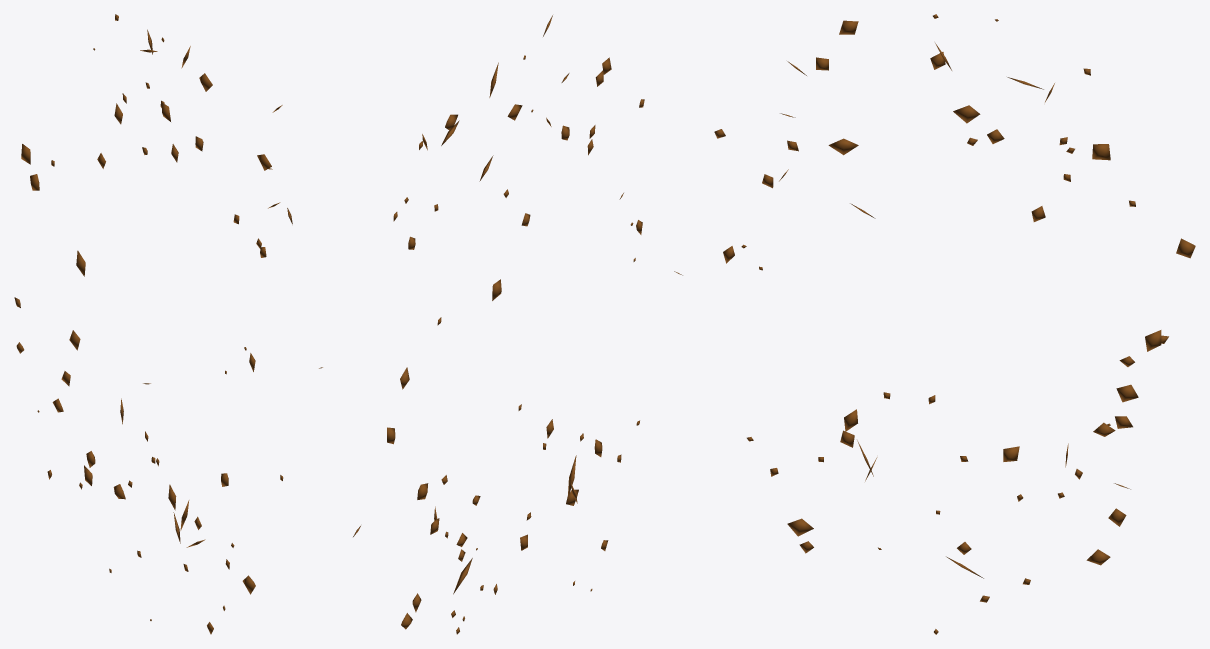
Rendered from SM_AmberHero_Debris.obj.
The picture shows the model from 3 angles, left to right: view 1: azimuth 30°, elevation 25°; view 2: azimuth 150°, elevation 25°; view 3: azimuth 270°, elevation 25°; orthographic projection.
Parts seen in each view (by area): view 1: Debris; view 2: Debris; view 3: Debris.
Boxes of the visible parts, box(x1,y1,x2,y2) form: Debris: box(14, 14, 322, 634); Debris: box(353, 15, 644, 634); Debris: box(674, 14, 1195, 634).
Bounding box in the file's own units: 1.92 × 7.87 × 6.31.
